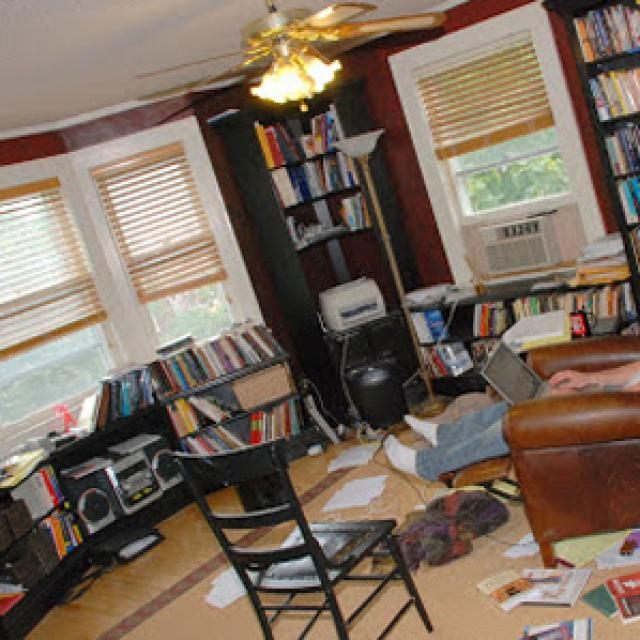mess: (294, 364, 640, 640)
